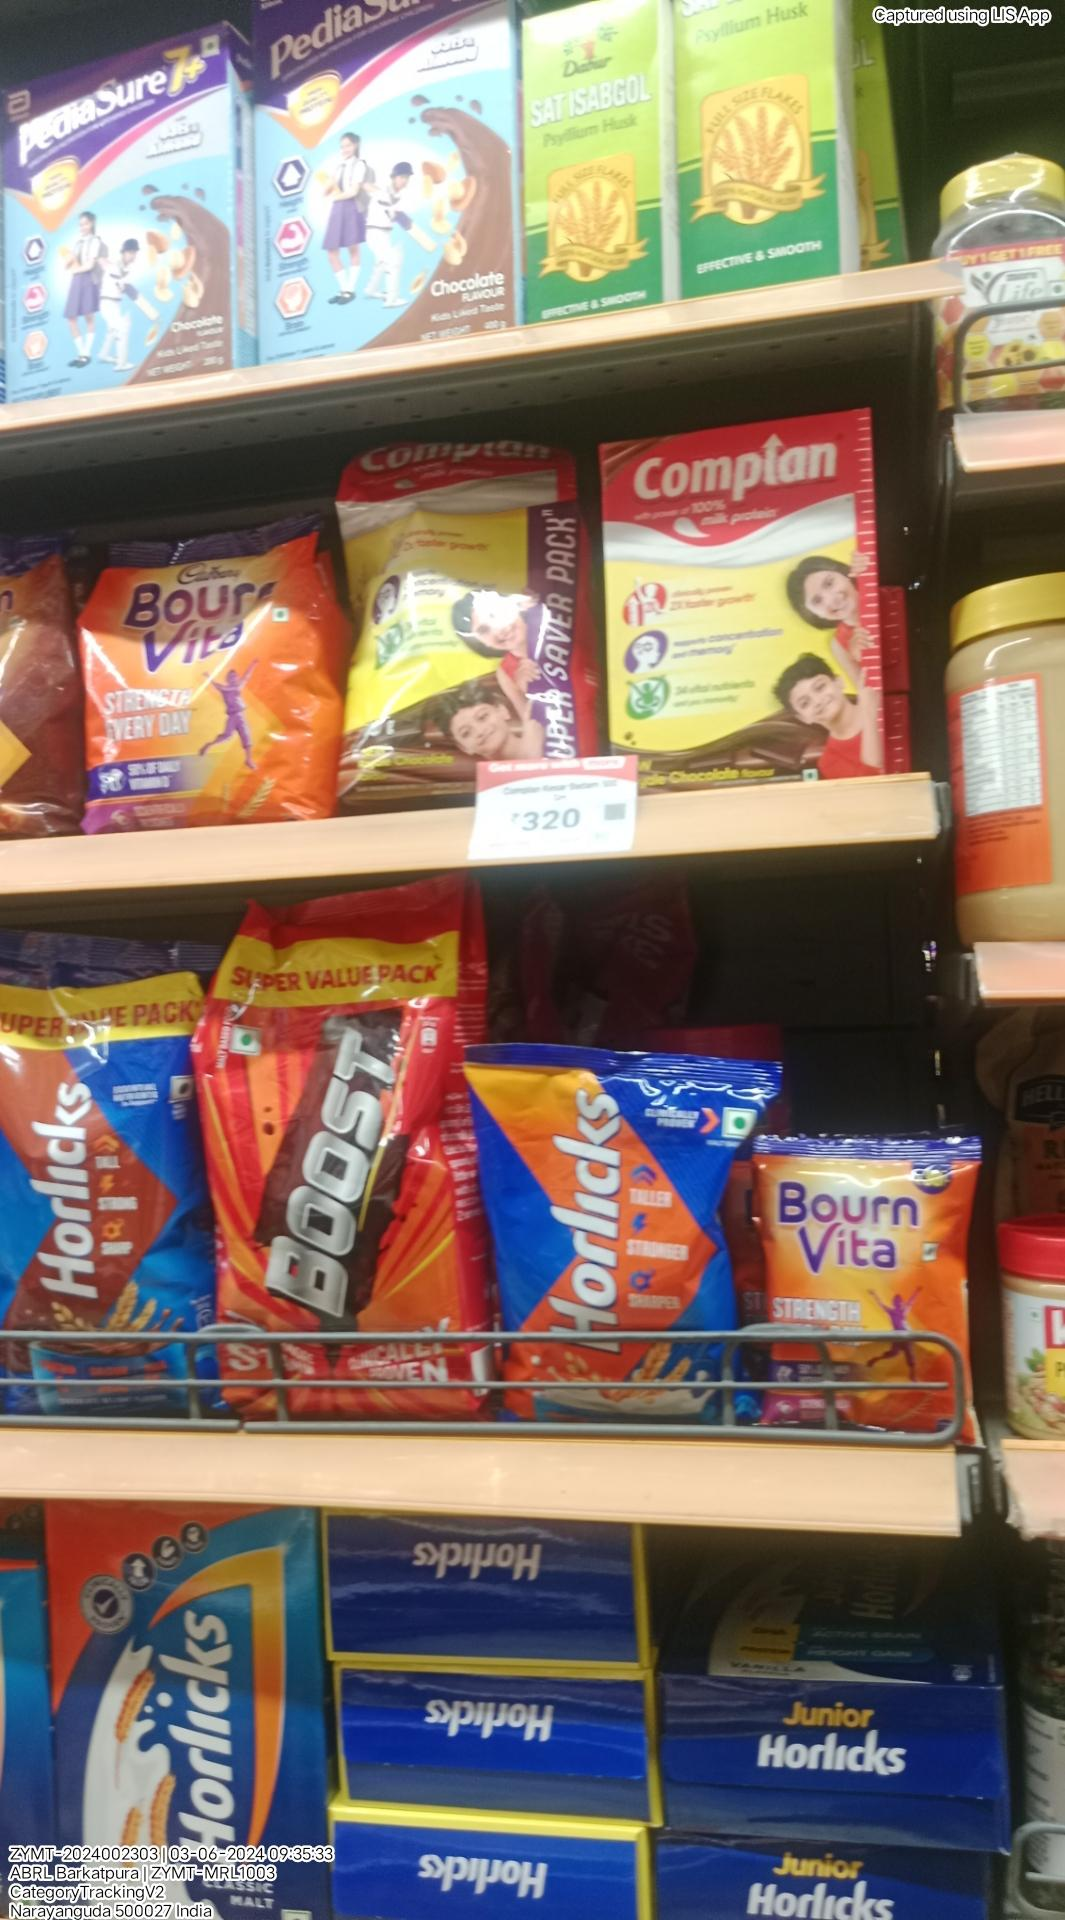BOURN_VITA_500_G_POUCH: (77, 550, 321, 817)
BOURN_VITA_75_G_POUCH: (763, 1134, 975, 1432)
COMPLAN_RC_POUCH_700_GMS_12: (342, 439, 585, 778)
HORLICK_CHOCOLATE_750_G_POUCH: (0, 965, 198, 1419)
HORLICK_CLASSIC_MALT_500_G_PACK: (50, 1503, 313, 1920)
